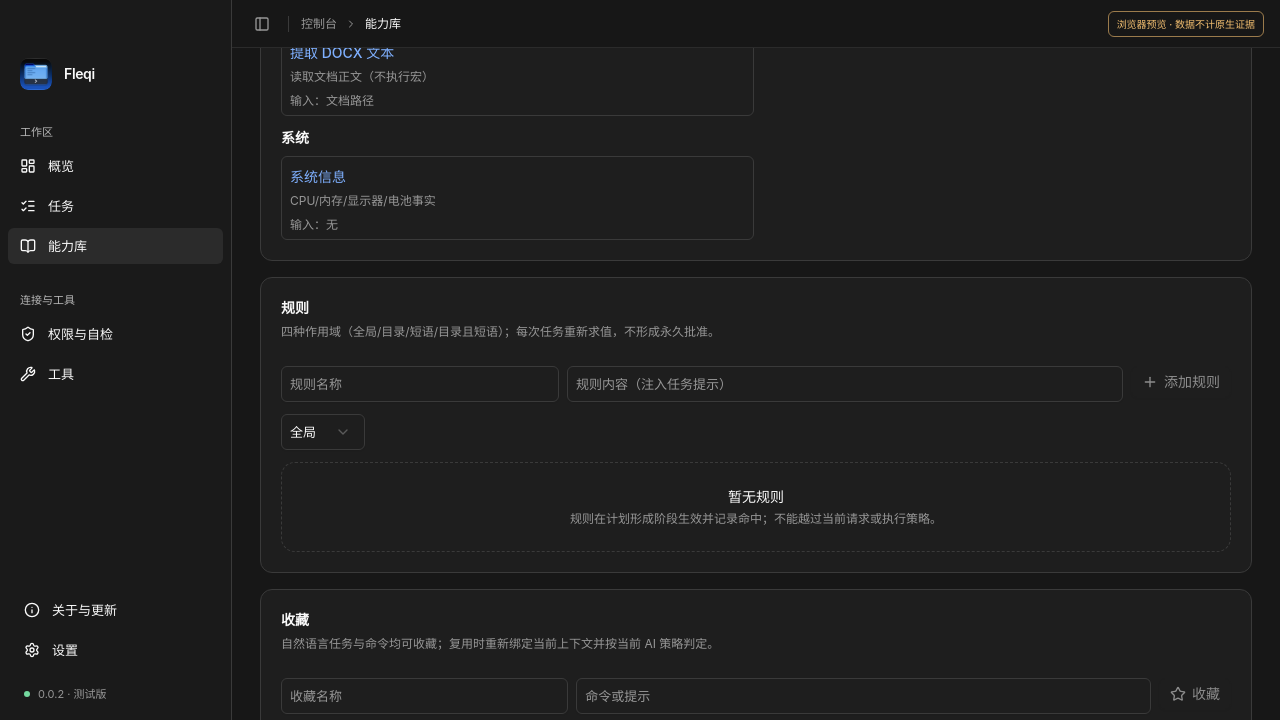
Test case: 控制台 · 工具与任务（M3 UI） › 能力库：目录分组呈现且规则可增删（FR-RULE-001）
The image size is (1280, 720).
(page scrolled)
# 目录项来自异步 catalog_query：等它到位再断言（避免与加载态竞态）。
In the field with placeholder "规则名称": (420, 384) [281, 366, 559, 402], type "全局规则"
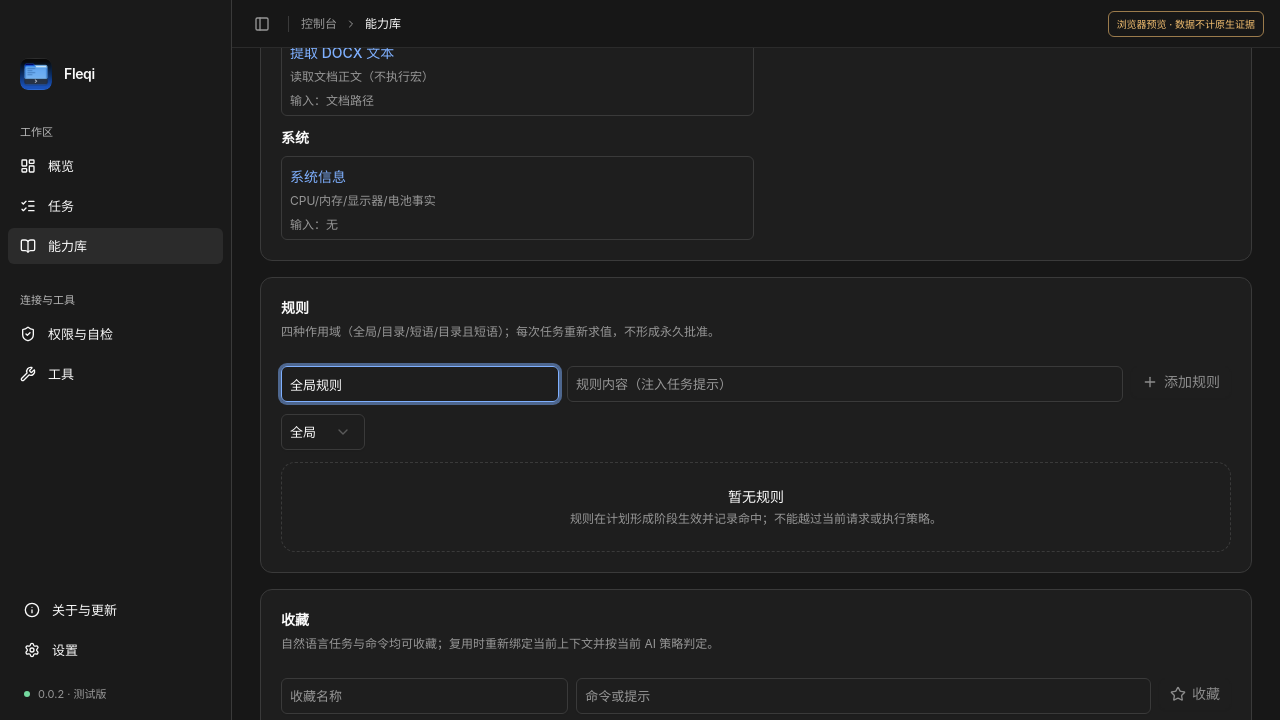
In the field with placeholder "规则内容（注入任务提示）": (845, 384) [567, 366, 1123, 402], type "回答保持简洁"
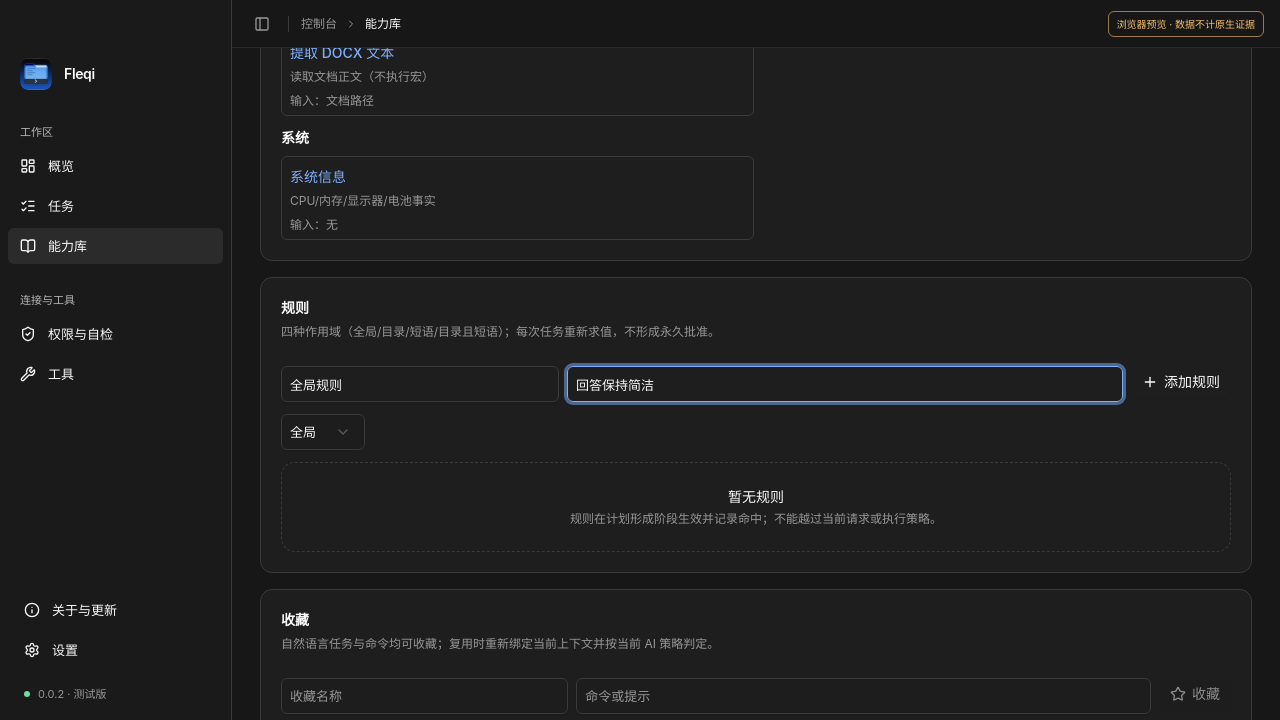
Click the button "添加规则": (1181, 382) [1131, 366, 1231, 398]
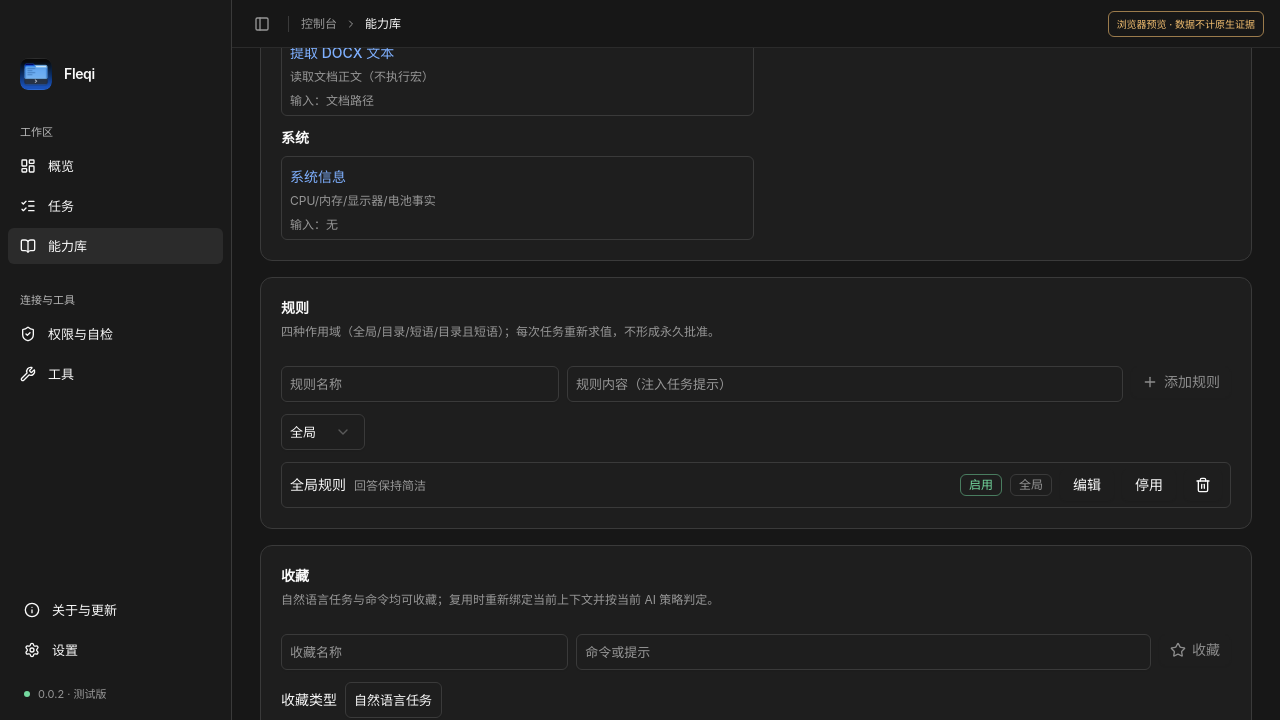
Expected: the text "全局规则" is shown, [290, 476, 346, 493]
Click the button named "删除规则 全局规则": (1203, 485) [1184, 469, 1222, 501]
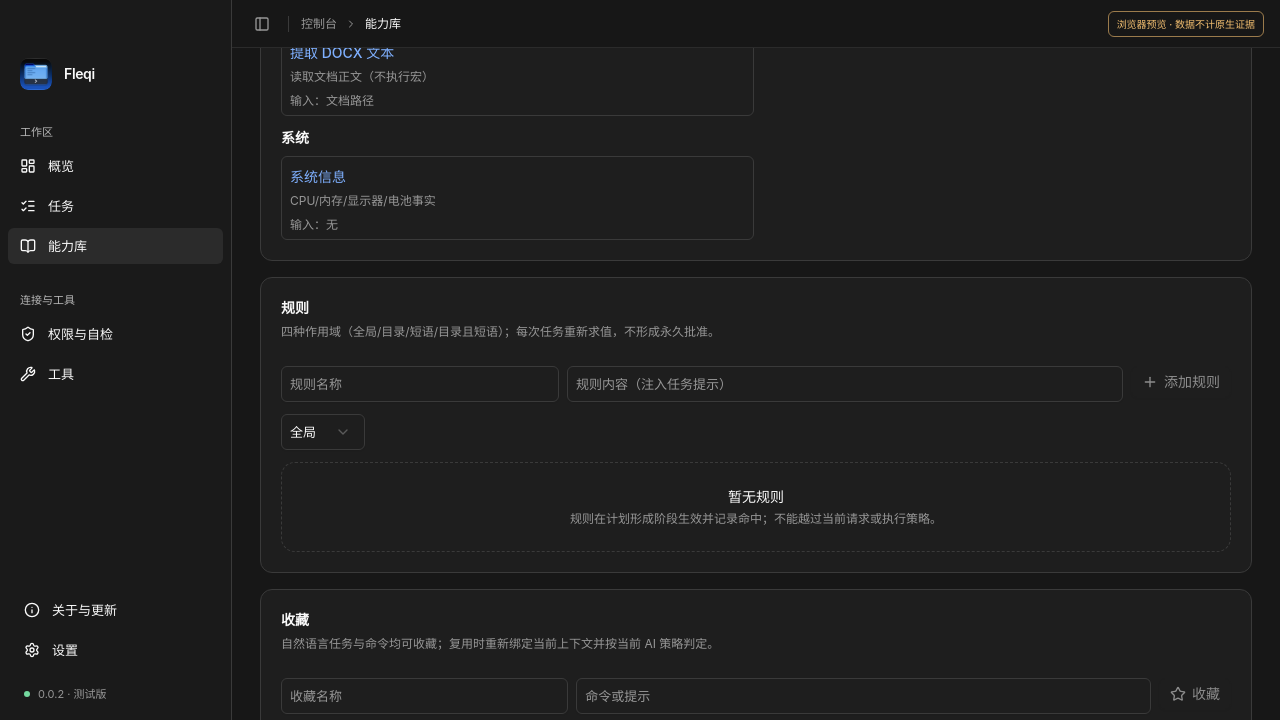
Expected: the text "暂无规则" is shown, [728, 488, 784, 505]
